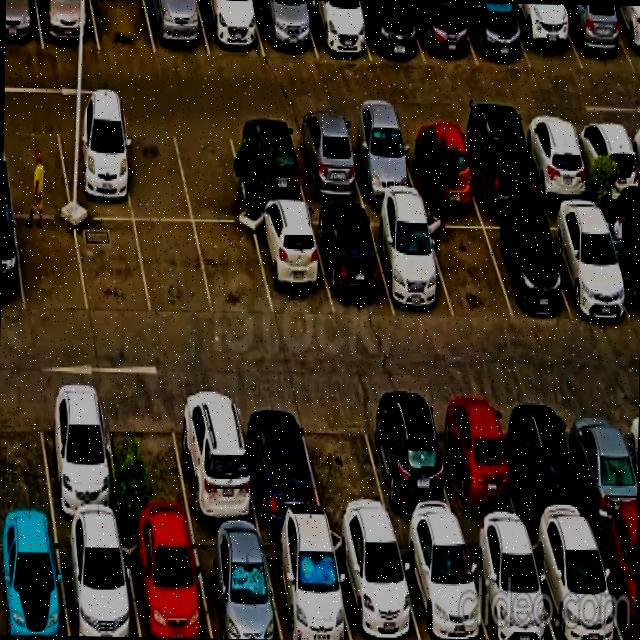empty: (299, 398, 392, 529), (103, 391, 192, 525), (424, 213, 512, 318), (172, 119, 250, 222), (117, 119, 192, 219), (75, 219, 151, 317), (134, 221, 213, 315), (194, 224, 272, 316), (14, 217, 88, 313), (0, 389, 53, 521), (3, 115, 71, 215), (91, 0, 155, 53)
occupied: (361, 397, 460, 530), (430, 397, 523, 531), (170, 391, 259, 526), (235, 395, 323, 525), (507, 396, 592, 530), (37, 388, 121, 523), (528, 529, 622, 640), (190, 528, 282, 639), (462, 531, 555, 640), (260, 529, 351, 640), (396, 531, 488, 640), (330, 529, 420, 640), (121, 527, 211, 638), (541, 208, 632, 317), (562, 398, 637, 528), (56, 524, 139, 637), (480, 213, 570, 317), (367, 210, 453, 317), (310, 209, 394, 314), (252, 209, 333, 317), (55, 117, 133, 219), (0, 524, 68, 636), (457, 122, 538, 207), (229, 121, 307, 204), (400, 122, 478, 204), (288, 121, 364, 203), (342, 121, 419, 201), (519, 121, 593, 201), (572, 120, 640, 201), (558, 4, 634, 70), (508, 3, 582, 70), (592, 528, 636, 640), (600, 208, 640, 322), (461, 2, 530, 67), (355, 1, 424, 63), (410, 2, 477, 65), (302, 0, 370, 60), (197, 0, 264, 57), (145, 0, 209, 56), (253, 0, 316, 56), (35, 0, 99, 50), (0, 212, 24, 313), (610, 5, 640, 70), (5, 0, 43, 49)
